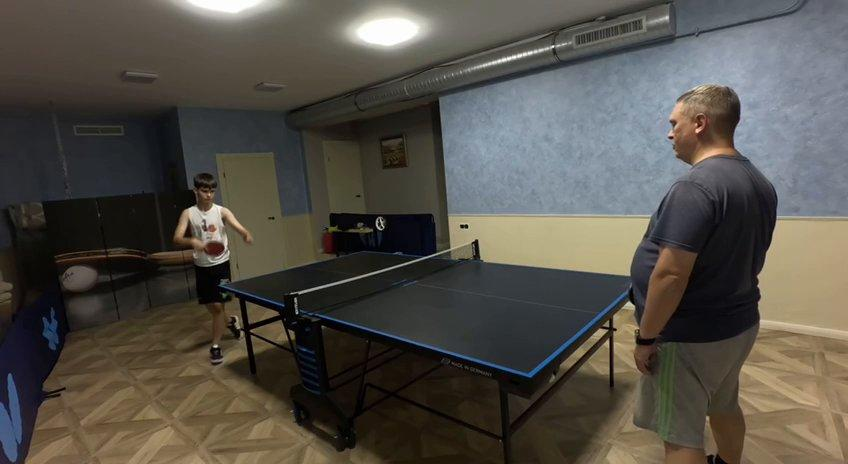Net: (280, 241, 481, 325)
Player1: (176, 173, 243, 368)
Player2: (631, 98, 776, 452)
Table: (222, 250, 635, 375)
